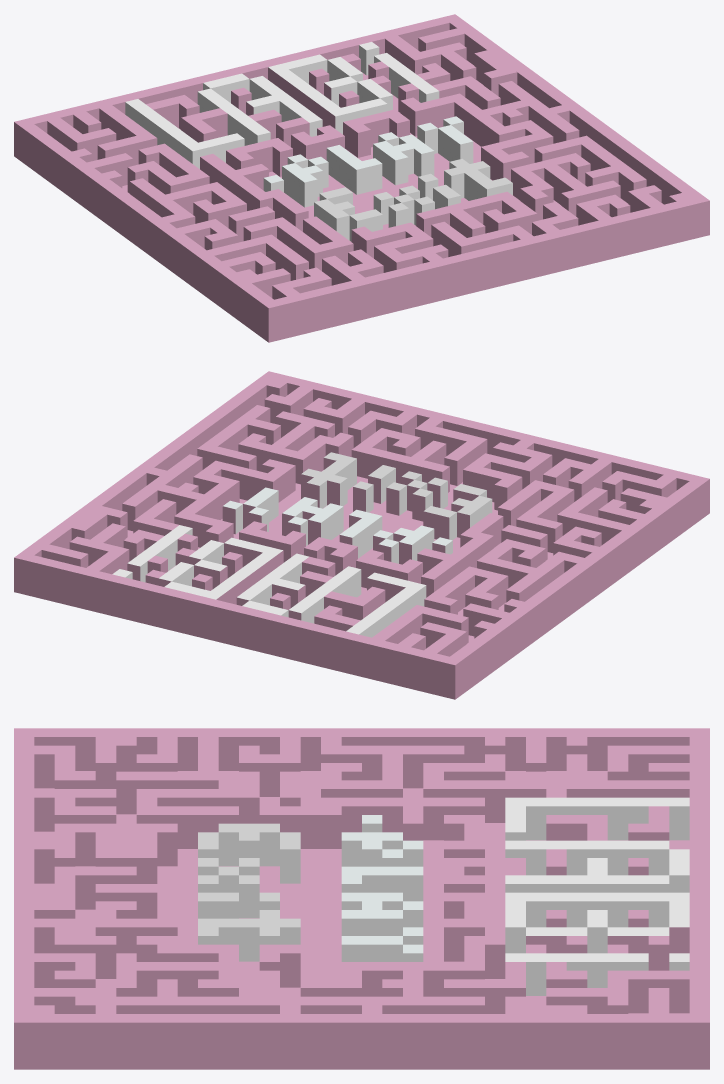
Rendered from map_1.fbx.
The picture shows the model from 3 angles, top to bottom: view 1: azimuth 30°, elevation 25°; view 2: azimuth 150°, elevation 25°; view 3: azimuth 270°, elevation 25°; orthographic projection. The views are drawn at different scales.
Parts seen in each view (by area): view 1: Cube.001; view 2: Cube.001; view 3: Cube.001.
Part boxes in pixels (left/top/right/bottom): Cube.001: left=14, top=14, right=709, bottom=342; Cube.001: left=14, top=371, right=709, bottom=699; Cube.001: left=14, top=728, right=709, bottom=1069.
Size of what is drawn, in the model's own units: 2133 by 159 by 2133.
